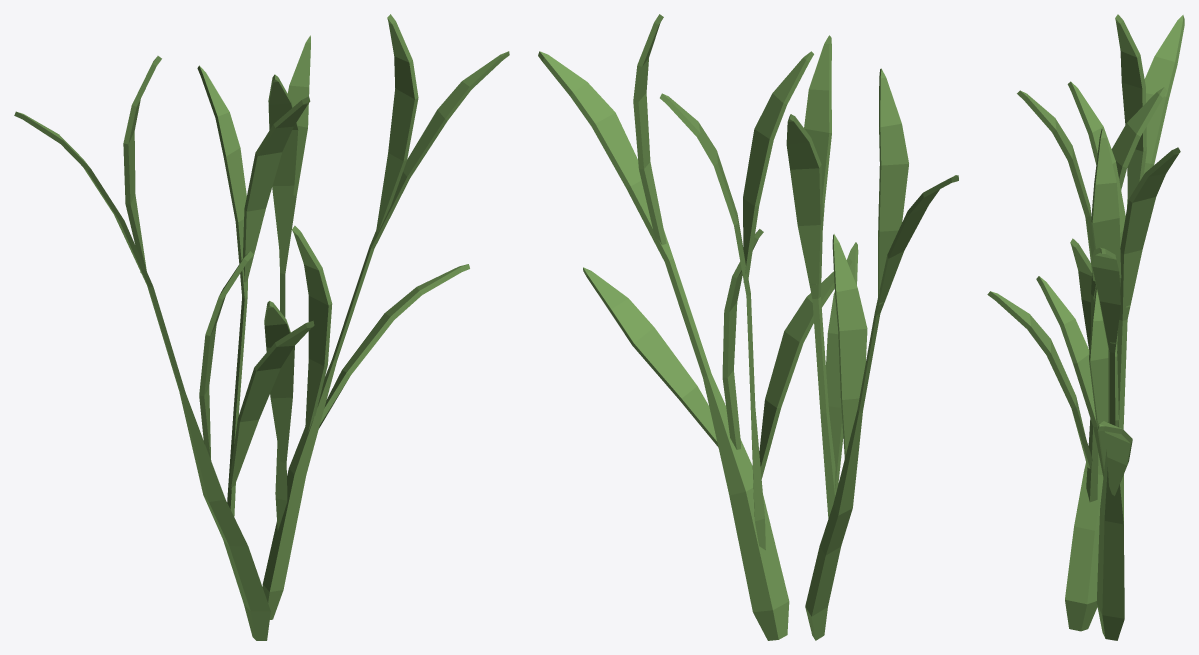
File: Rice_3.gltf
3 views of the same model, side by side, from view 1: azimuth 30°, elevation 25°; view 2: azimuth 150°, elevation 25°; view 3: azimuth 270°, elevation 25° (orthographic). The views are drawn at different scales.
Visible parts, largest first — view 1: Rice_3; view 2: Rice_3; view 3: Rice_3.
Part boxes in pixels (x1,y1,x2,y2): Rice_3: (14, 14, 509, 640); Rice_3: (538, 14, 958, 640); Rice_3: (987, 14, 1184, 640).
Bounding box in the file's own units: 0.6186 × 0.7691 × 0.2384.
